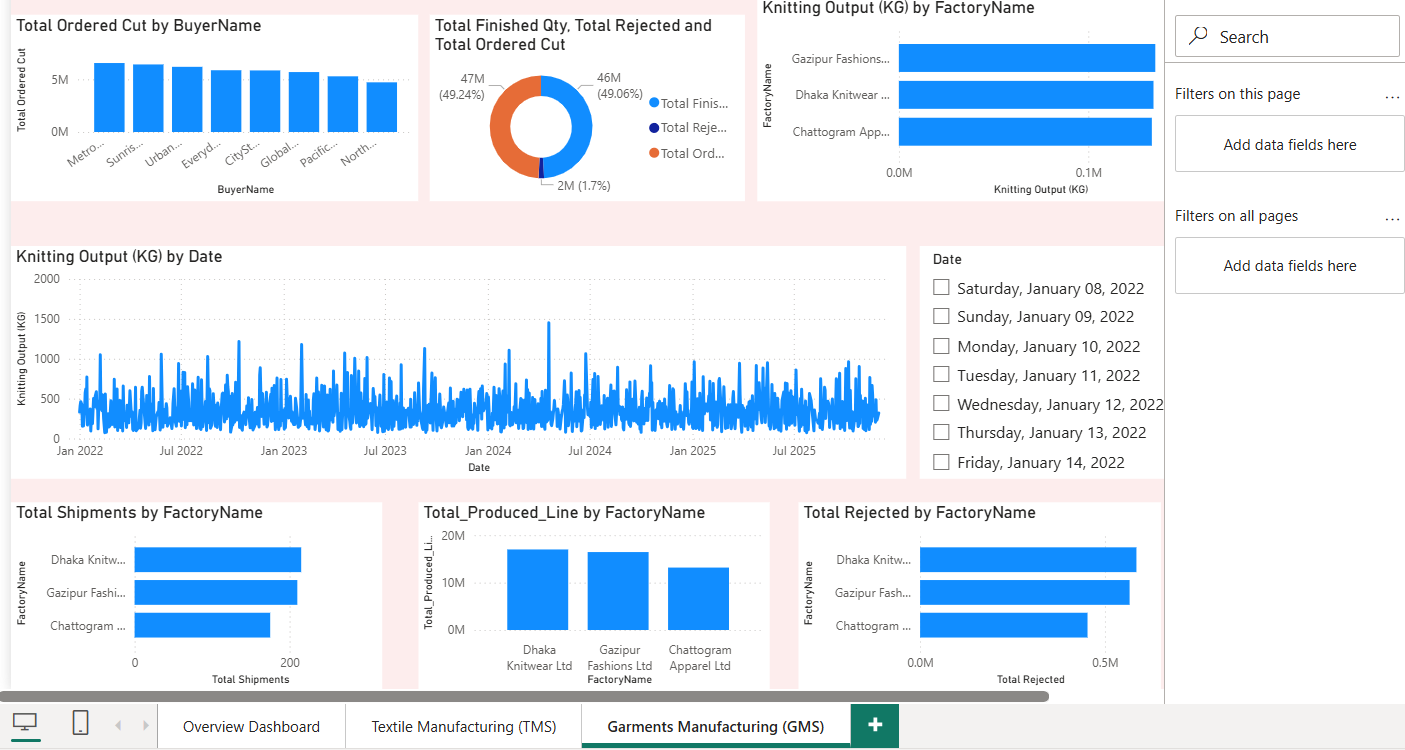

What the dashboard file says about the page in this screenshot:
{"tool":"powerbi","page":{"name":"Garments Manufacturing (GMS)","canvas":[1280,720],"ordinal":2},"visuals":[{"type":"lineChart","fields":{"Category":["dim_date - dim_date.Date"],"Y":["Measure.Knitting Output (KG)"]},"box":[0,275,895,232.5],"z":0},{"type":"clusteredBarChart","fields":{"Y":["Measure.Knitting Output (KG)"],"Category":["dim_factory - dim_factory.FactoryName"]},"box":[746.2,26.2,445,203.8],"z":1000},{"type":"donutChart","fields":{"Y":["Measure.Total Finished Qty","Measure.Total Rejected","Measure.Total Ordered Cut"]},"box":[418.8,43.8,315,186.2],"z":1001},{"type":"clusteredBarChart","fields":{"Category":["dim_factory - dim_factory.FactoryName"],"Y":["Measure.Total Shipments"]},"box":[0,531.2,371.2,188.8],"z":1002},{"type":"columnChart","fields":{"Category":["dim_factory - dim_factory.FactoryName"],"Y":["Measure.Total_Produced_Line"]},"box":[407.5,531.2,351.2,188.8],"z":1003},{"type":"barChart","fields":{"Y":["Measure.Total Rejected"],"Category":["dim_factory - dim_factory.FactoryName"]},"box":[787.5,531.2,362.5,188.8],"z":1004},{"type":"columnChart","fields":{"Category":["dim_buyer - dim_buyer.BuyerName"],"Y":["Measure.Total Ordered Cut"]},"box":[0,43.8,407.5,186.2],"z":1005},{"type":"slicer","fields":{"Values":["dim_date - dim_date.Date"]},"box":[908.8,275,282.5,232.5],"z":1006}]}

Visuals, with their boxes on the page's 1280x720 design canvas (x1, y1, x2, y2). These are canvas units, not pixel positions in the 1405x750 screenshot, which may show the page scaled, cropped or inside an application window:
lineChart - dim_date - dim_date.Date x Measure.Knitting Output (KG): 0/275/895/508
clusteredBarChart - Measure.Knitting Output (KG) x dim_factory - dim_factory.FactoryName: 746/26/1191/230
donutChart - Measure.Total Finished Qty x Measure.Total Rejected: 419/44/734/230
clusteredBarChart - dim_factory - dim_factory.FactoryName x Measure.Total Shipments: 0/531/371/720
columnChart - dim_factory - dim_factory.FactoryName x Measure.Total_Produced_Line: 408/531/759/720
barChart - Measure.Total Rejected x dim_factory - dim_factory.FactoryName: 788/531/1150/720
columnChart - dim_buyer - dim_buyer.BuyerName x Measure.Total Ordered Cut: 0/44/408/230
slicer - dim_date - dim_date.Date: 909/275/1191/508
